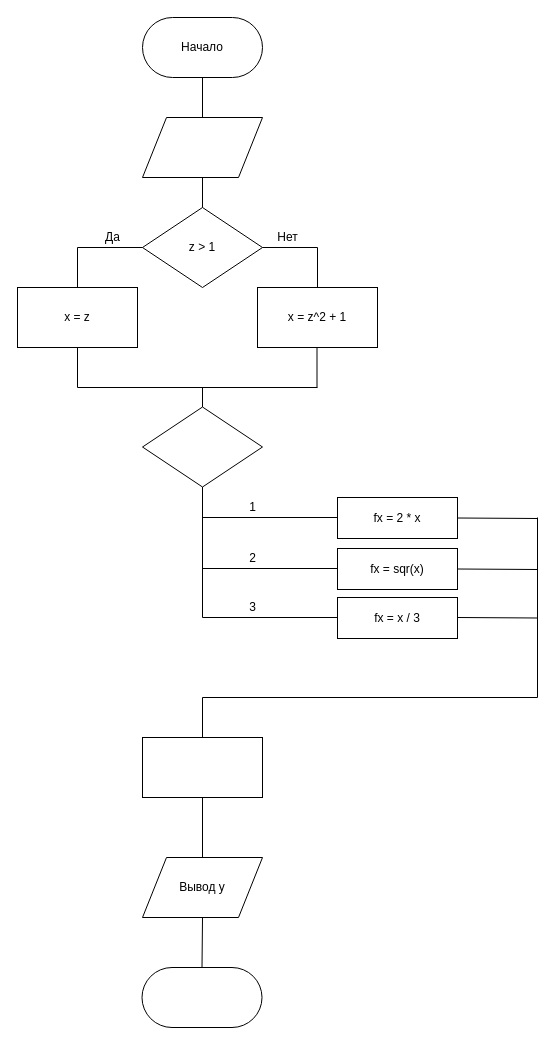
Some shapes in this 556 by 1045 pixel diagram are drawn without their labels. Each missing label, with the box of its shape:
type: (142, 406, 262, 487)
y = sin(n * fx) + cos(k * x) + log(m * x): (142, 736, 262, 798)
Ввод type, z, n, k, m: (142, 116, 262, 178)
Конец: (141, 966, 262, 1028)
